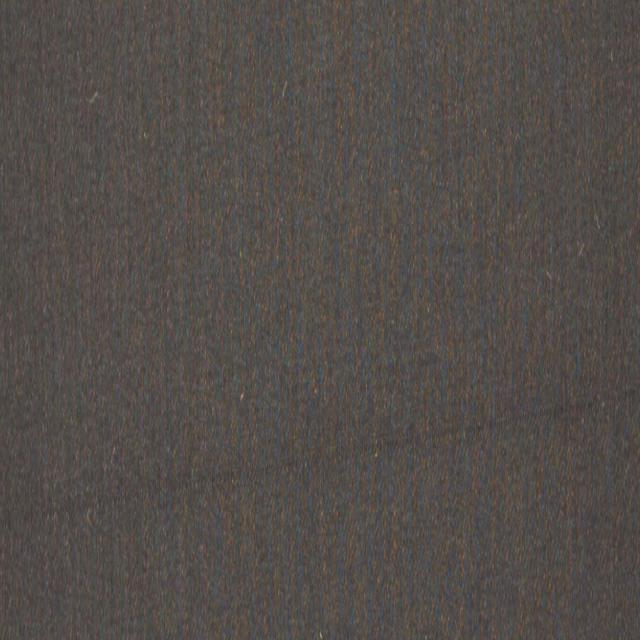Line: (0, 382, 640, 535)
